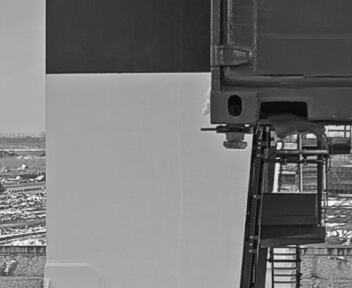twist_lock_1: (211, 118, 258, 154)
